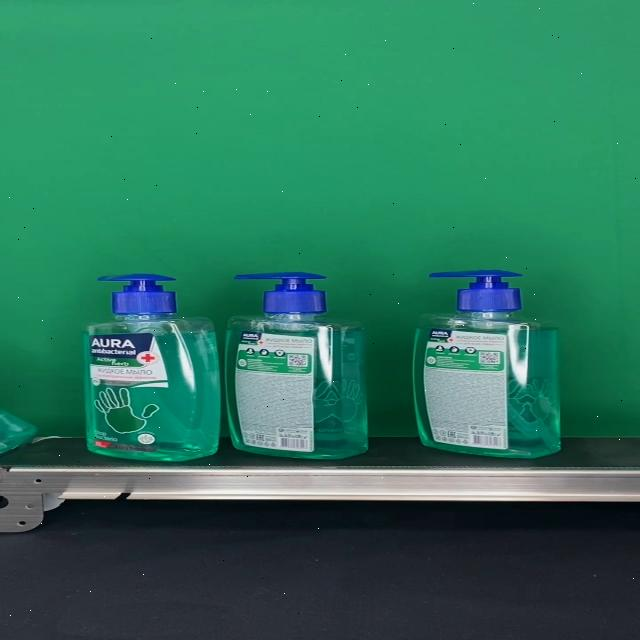Bottle: (413, 270, 562, 458), (226, 272, 369, 459), (84, 273, 220, 461)
Cap: (428, 270, 524, 314), (235, 272, 326, 314), (97, 273, 177, 314)
